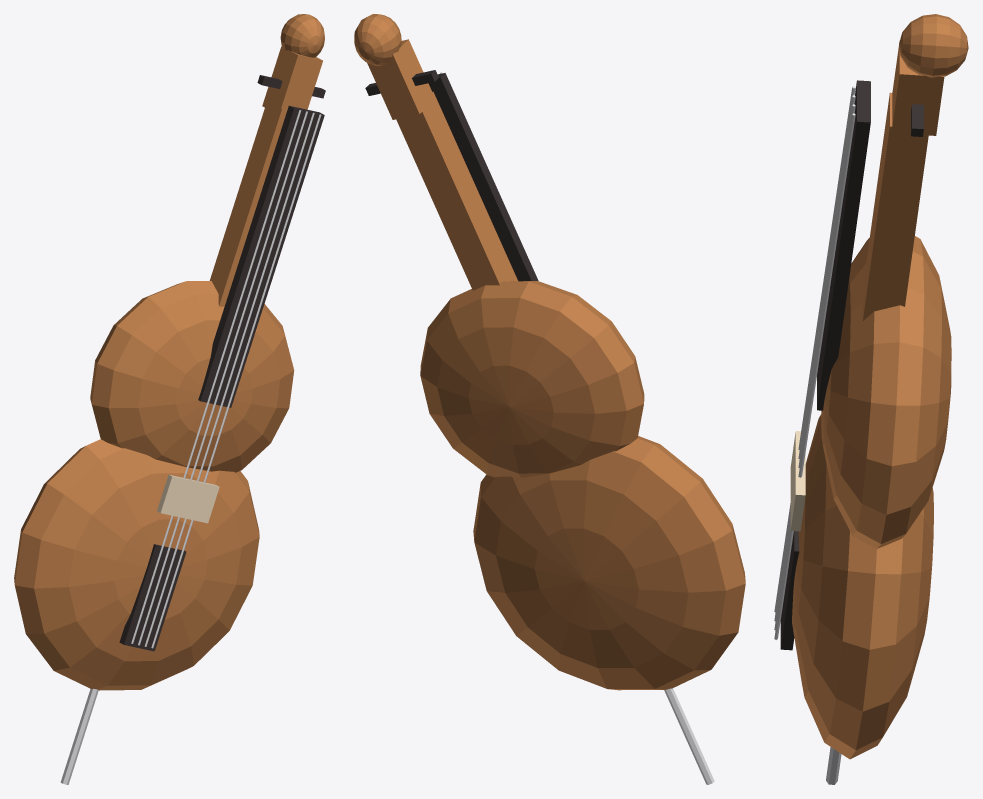
Rendered from Cello_Played.glb.
The picture shows the model from 3 angles, left to right: view 1: azimuth 30°, elevation 25°; view 2: azimuth 150°, elevation 25°; view 3: azimuth 270°, elevation 25°; orthographic projection. The views are drawn at different scales.
Visible parts, largest first — view 1: Cello_LowerBout, Cello_UpperBout, Cello_Fingerboard, Cello_Neck, Cello_Tailpiece, Cello_Pegbox, Cello_Bridge, Cello_Scroll, Cello_String, Cello_String.002, Cello_String.003, Cello_String.001 (+1 smaller); view 2: Cello_LowerBout, Cello_UpperBout, Cello_Neck, Cello_Fingerboard, Cello_Pegbox, Cello_Scroll, Cello_Endpin; view 3: Cello_LowerBout, Cello_UpperBout, Cello_Neck, Cello_Fingerboard, Cello_Scroll, Cello_Pegbox, Cello_String.003, Cello_Tailpiece, Cello_Bridge, Cello_String.002, Cello_String.001, Cello_String (+2 smaller).
Part boxes in pixels (x1,y1,x2,y2): Cello_LowerBout: (14, 439, 259, 690); Cello_UpperBout: (90, 281, 294, 472); Cello_Fingerboard: (198, 105, 324, 407); Cello_Neck: (209, 103, 287, 306); Cello_Tailpiece: (119, 544, 186, 651); Cello_Pegbox: (262, 46, 322, 110); Cello_Bridge: (157, 474, 219, 523); Cello_Scroll: (280, 14, 324, 57); Cello_String: (131, 110, 301, 643); Cello_String.002: (144, 112, 314, 646); Cello_String.003: (151, 114, 321, 648); Cello_String.001: (138, 111, 307, 645); Cello_LowerBout: (473, 436, 745, 690); Cello_UpperBout: (420, 281, 644, 477); Cello_Neck: (396, 91, 517, 290); Cello_Fingerboard: (428, 73, 538, 281); Cello_Pegbox: (367, 39, 433, 119); Cello_Scroll: (354, 14, 401, 65); Cello_Endpin: (664, 688, 714, 784); Cello_LowerBout: (792, 414, 933, 759); Cello_UpperBout: (821, 236, 951, 548); Cello_Neck: (863, 92, 929, 320); Cello_Fingerboard: (817, 80, 870, 410); Cello_Scroll: (899, 14, 968, 77); Cello_Pegbox: (891, 40, 944, 135); Cello_String.003: (774, 113, 855, 639); Cello_Tailpiece: (780, 531, 799, 650); Cello_Bridge: (790, 431, 805, 531); Cello_String.002: (774, 104, 855, 630); Cello_String.001: (774, 95, 855, 621); Cello_String: (774, 86, 855, 612).
Size of the model in its own units: 0.7393 by 1.43 by 0.2625.
